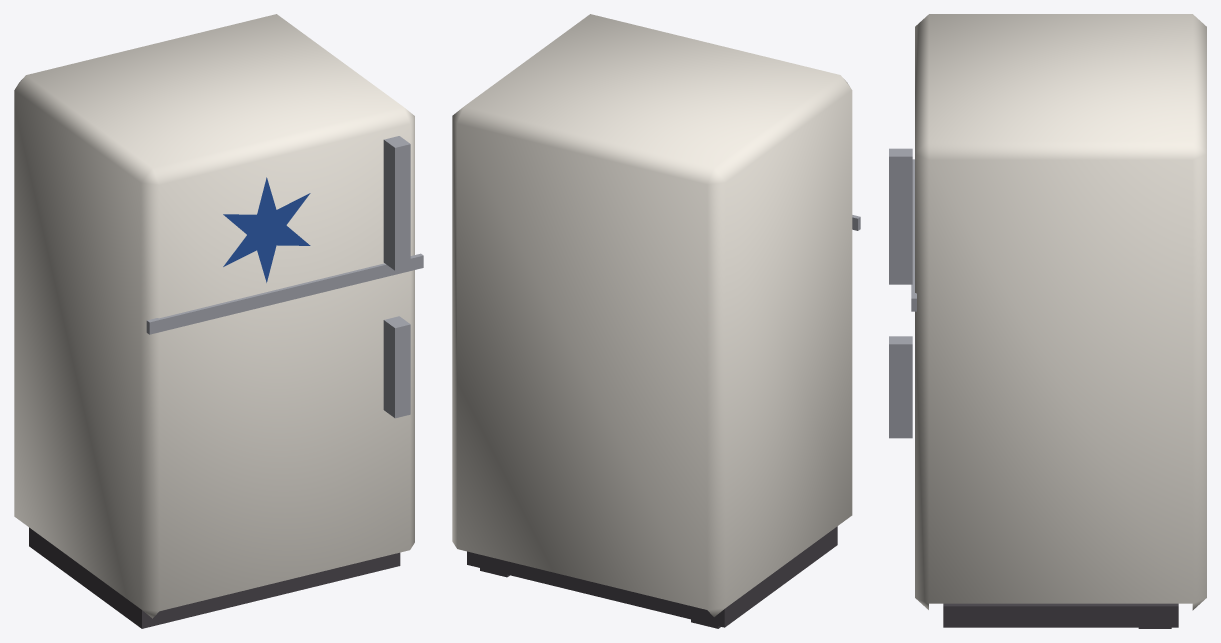
File: fridge.glb
The picture shows the model from 3 angles, left to right: view 1: azimuth 30°, elevation 25°; view 2: azimuth 150°, elevation 25°; view 3: azimuth 270°, elevation 25°; orthographic projection. The views are drawn at different scales.
Visible parts, largest first — view 1: fridge; view 2: fridge; view 3: fridge.
Part boxes in pixels (x1,y1,x2,y2): fridge: (14, 14, 423, 628); fridge: (452, 14, 860, 628); fridge: (889, 14, 1206, 628).
Bounding box in the file's own units: 0.7 × 1.15 × 0.675.
1 material, 1 textured.
